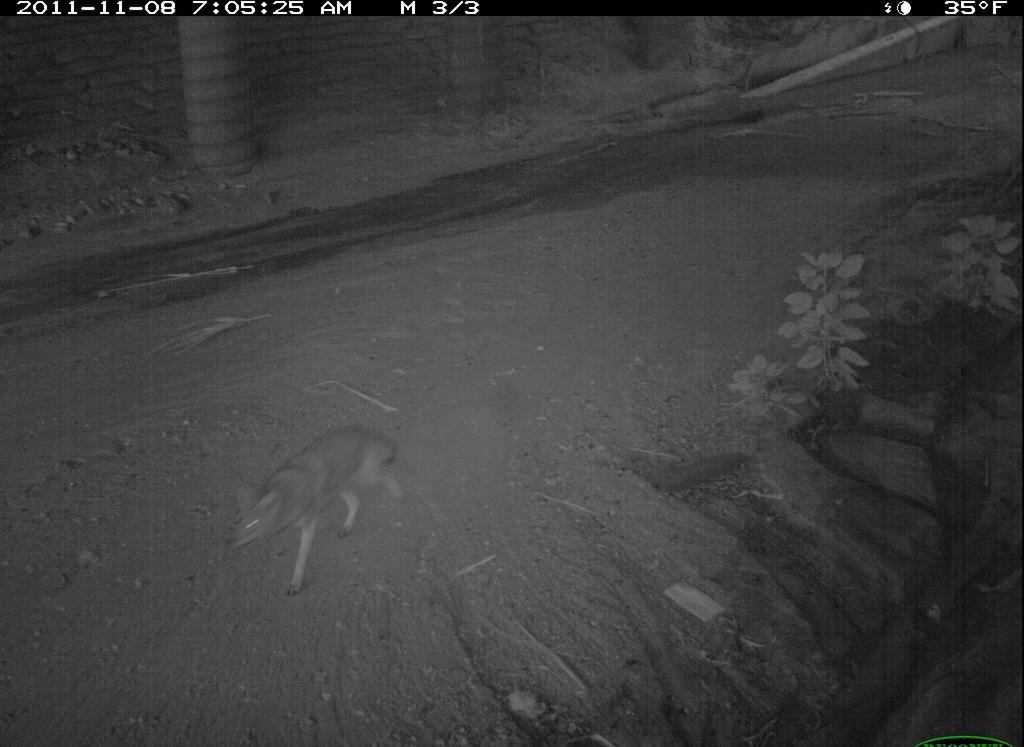coyote: (225, 419, 409, 601)
